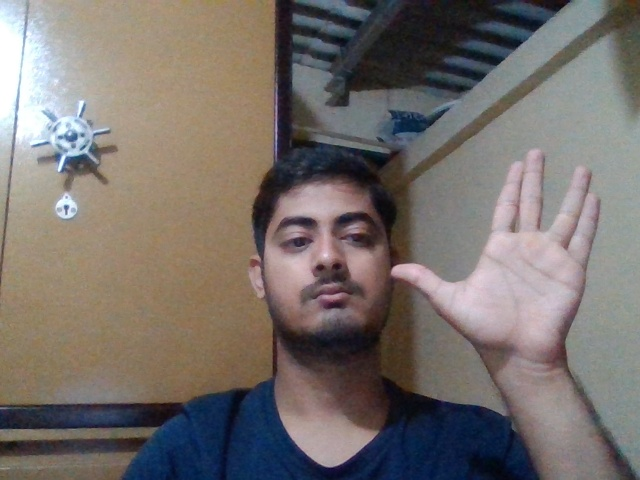LiveLong: (390, 146, 600, 359)
